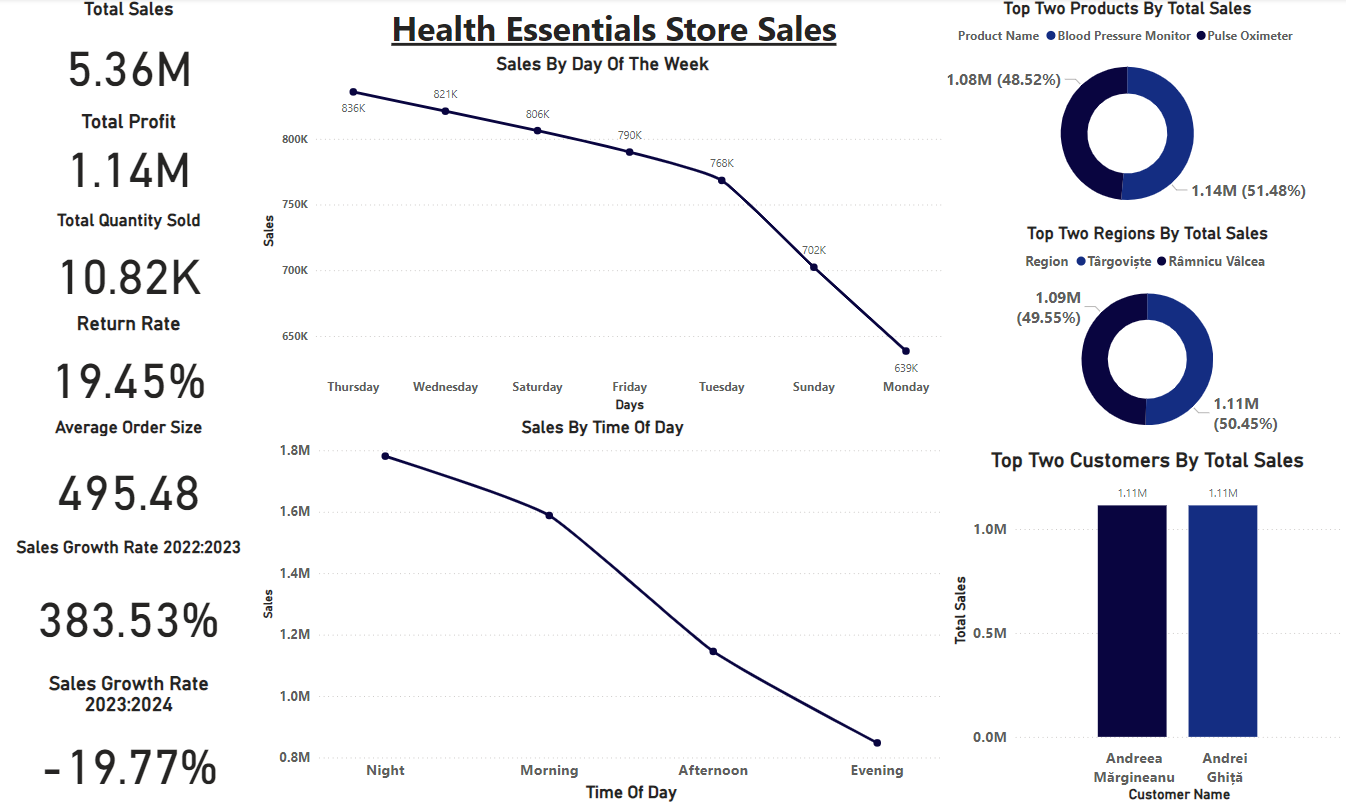

The dashboard page shown, as its layout file describes it:
{"tool":"powerbi","page":{"name":"Page 1","canvas":[1500,900],"ordinal":0},"visuals":[{"type":"textbox","box":[320,2.8,734.7,58.4],"z":0},{"type":"card","title":"Total Sales","fields":{"Values":["Sheet1.Total_Sales"]},"box":[0,2.8,286.6,118.3],"z":1000},{"type":"card","title":"Total Profit","fields":{"Values":["Sheet1.Profit"]},"box":[0,125.2,286.6,94.6],"z":2000},{"type":"card","title":"Total Quantity Sold","fields":{"Values":["Sheet1.Quantity_Sold"]},"box":[0,236.6,286.6,112.7],"z":3000},{"type":"card","title":"Average Order Size","fields":{"Values":["Sheet1.AVG Order Size"]},"box":[0,466.1,286.6,133.6],"z":4000},{"type":"card","title":"Return Rate","fields":{"Values":["Sheet1.return rate"]},"box":[0,349.3,286.6,116.9],"z":5000},{"type":"card","title":"Sales Growth Rate 2022:2023","fields":{"Values":["Sheet1.Sales Growth Rate 2022 to 2023"]},"box":[0,599.7,286.6,150.3],"z":6000},{"type":"card","title":"Sales Growth Rate 2023:2024","fields":{"Values":["Sheet1.Sales Growth Rate 2023 to 2024"]},"box":[0,750,286.6,150.3],"z":7000},{"type":"donutChart","title":"Top Two Products By Total Sales","fields":{"Category":["Sheet1.Product_Name"],"Y":["Sheet1.Total_Sales"]},"box":[1010.2,2.8,489.8,247.7],"z":8000},{"type":"donutChart","title":"Top Two Regions By Total Sales","fields":{"Category":["Sheet1.Region_Name"],"Y":["Sheet1.Total_Sales"]},"box":[1054.7,250.5,445.3,250.5],"z":9000},{"type":"lineChart","title":"Sales By Day Of The Week","fields":{"Y":["Sheet1.Total_Sales"],"Category":["Sheet1.Day_of_Week"]},"box":[286.6,61.2,768.1,404.9],"z":10000},{"type":"lineChart","title":"Sales By Time Of Day","fields":{"Y":["Sheet1.Total_Sales"],"Category":["Sheet1.Time_Of_Day"]},"box":[286.6,466.1,768.1,434.1],"z":11000},{"type":"clusteredColumnChart","title":"Top Two Customers By Total Sales","fields":{"Y":["Sheet1.Total_Sales"],"Category":["Sheet2.Customer_Name"]},"box":[1054.7,500.9,445.3,399.4],"z":12000}]}

Visuals, with their boxes in screenshot pixels (x1, y1, x2, y2), scaled from the page's 1500x900 canvas onto the 1346x806 screenshot:
textbox: [287,3,946,55]
"Total Sales" card: [0,3,257,108]
"Total Profit" card: [0,112,257,197]
"Total Quantity Sold" card: [0,212,257,313]
"Average Order Size" card: [0,417,257,537]
"Return Rate" card: [0,313,257,418]
"Sales Growth Rate 2022:2023" card: [0,537,257,672]
"Sales Growth Rate 2023:2024" card: [0,672,257,805]
"Top Two Products By Total Sales" donutChart: [906,3,1345,224]
"Top Two Regions By Total Sales" donutChart: [946,224,1345,449]
"Sales By Day Of The Week" lineChart: [257,55,946,417]
"Sales By Time Of Day" lineChart: [257,417,946,805]
"Top Two Customers By Total Sales" clusteredColumnChart: [946,449,1345,805]
